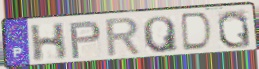D: (180, 11, 215, 53)
H: (29, 21, 69, 64)
P: (68, 20, 104, 61)
Q: (141, 15, 180, 54), (216, 9, 253, 50)
R: (104, 15, 143, 59)
